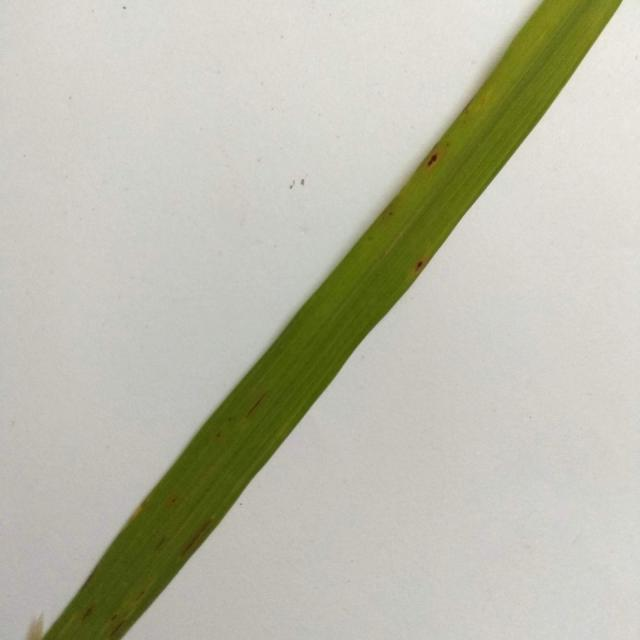Brown spot: (422, 152, 459, 172), (78, 599, 95, 616), (410, 255, 428, 270)
